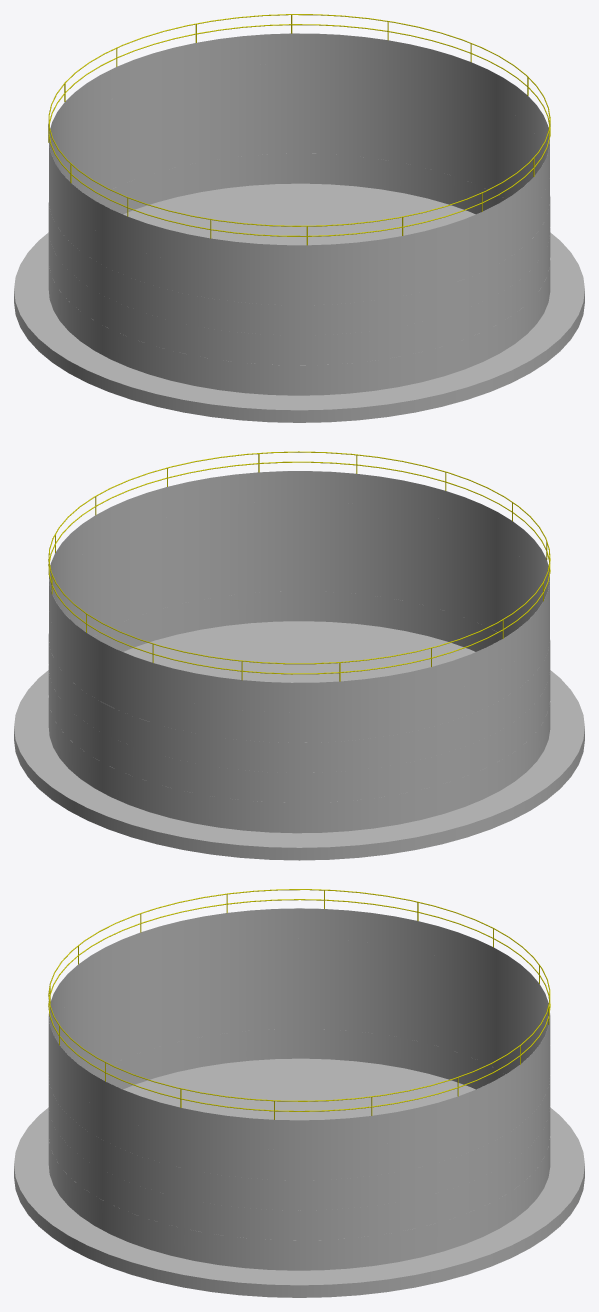
Rendered from crude.glb.
3 views of the same model, one above another, from view 1: azimuth 30°, elevation 25°; view 2: azimuth 150°, elevation 25°; view 3: azimuth 270°, elevation 25° (orthographic).
Parts seen in each view (by area): view 1: Solid1 (×7); view 2: Solid1 (×7); view 3: Solid1 (×7).
Boxes of the visible parts, x1,y1,x2,y2 form: Solid1 (×7): [14, 14, 584, 422]; Solid1 (×7): [14, 451, 584, 860]; Solid1 (×7): [14, 889, 584, 1297].
Bounding box in the file's own units: 41 × 14.45 × 41.
